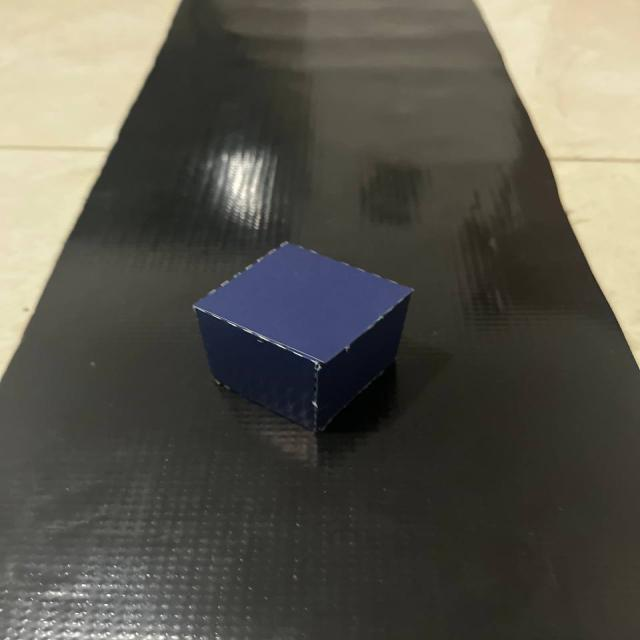Azul: (189, 230, 437, 440)
